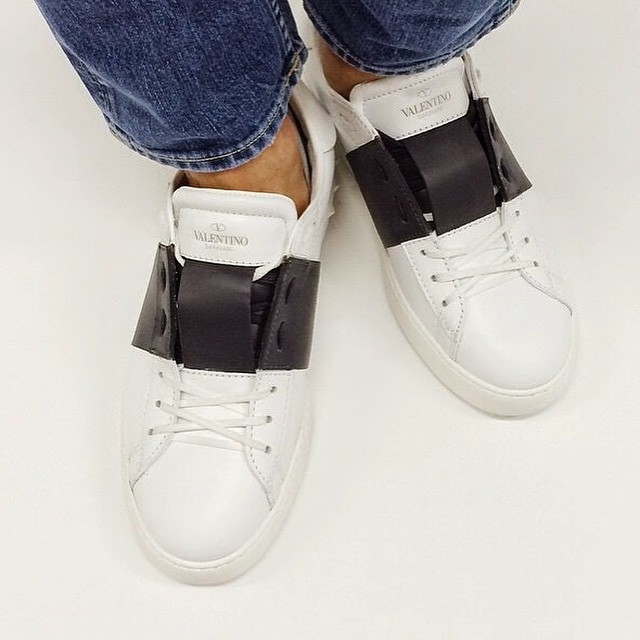sneaker: (90, 73, 354, 604), (301, 12, 603, 442)
